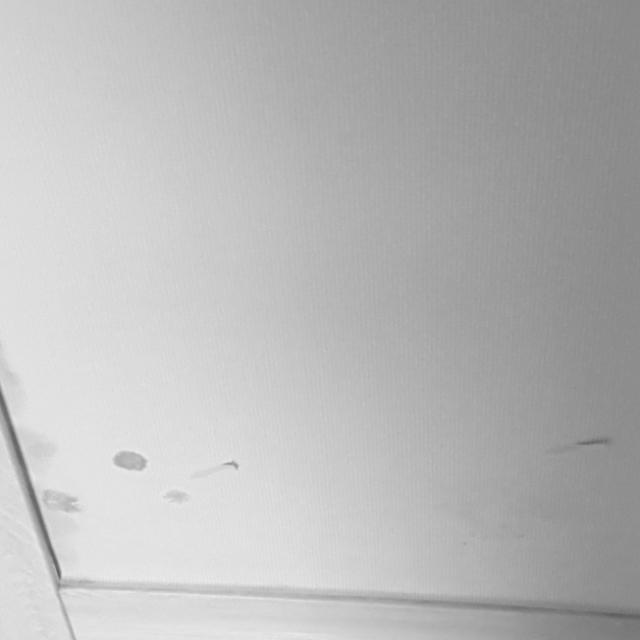stain marks: (1, 359, 99, 590), (112, 447, 189, 510), (460, 510, 528, 555)
